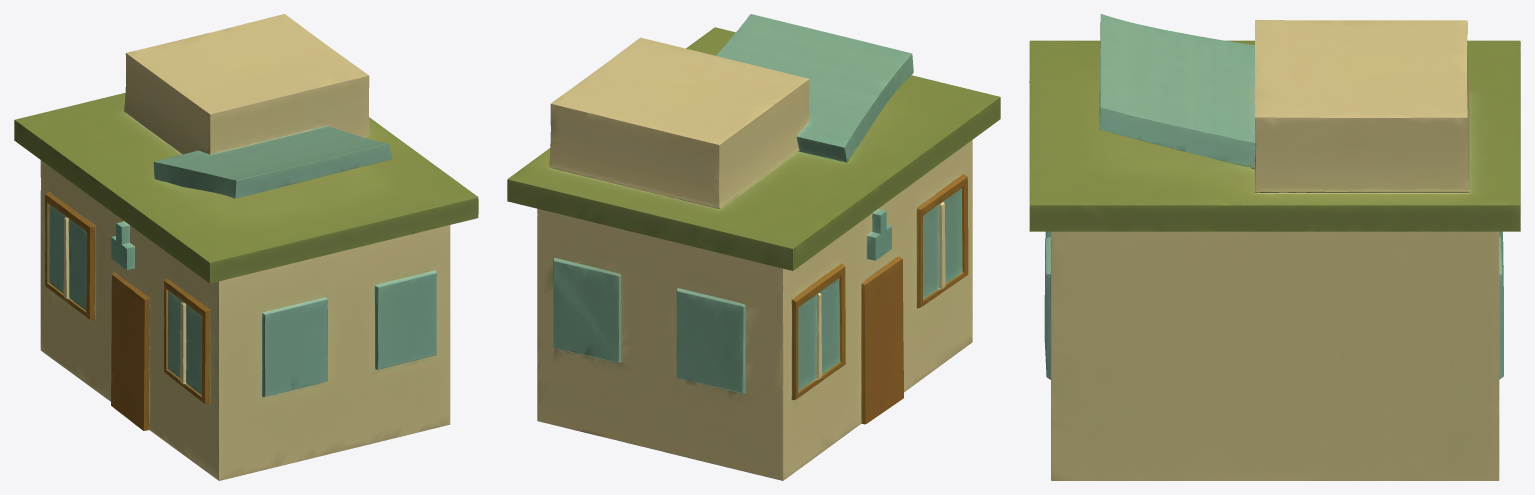
3 views of the same model, side by side, from view 1: azimuth 30°, elevation 25°; view 2: azimuth 150°, elevation 25°; view 3: azimuth 270°, elevation 25° (orthographic). The views are drawn at different scales.
Parts seen in each view (by area): view 1: model; view 2: model; view 3: model.
Part boxes in pixels (bbox=[...]): model: bbox=[14, 14, 478, 480]; model: bbox=[507, 14, 1000, 480]; model: bbox=[1029, 14, 1520, 480].
Size of the model in its own units: 1.51 by 1.55 by 1.9.
Materials: 1 (1 with a texture image).
